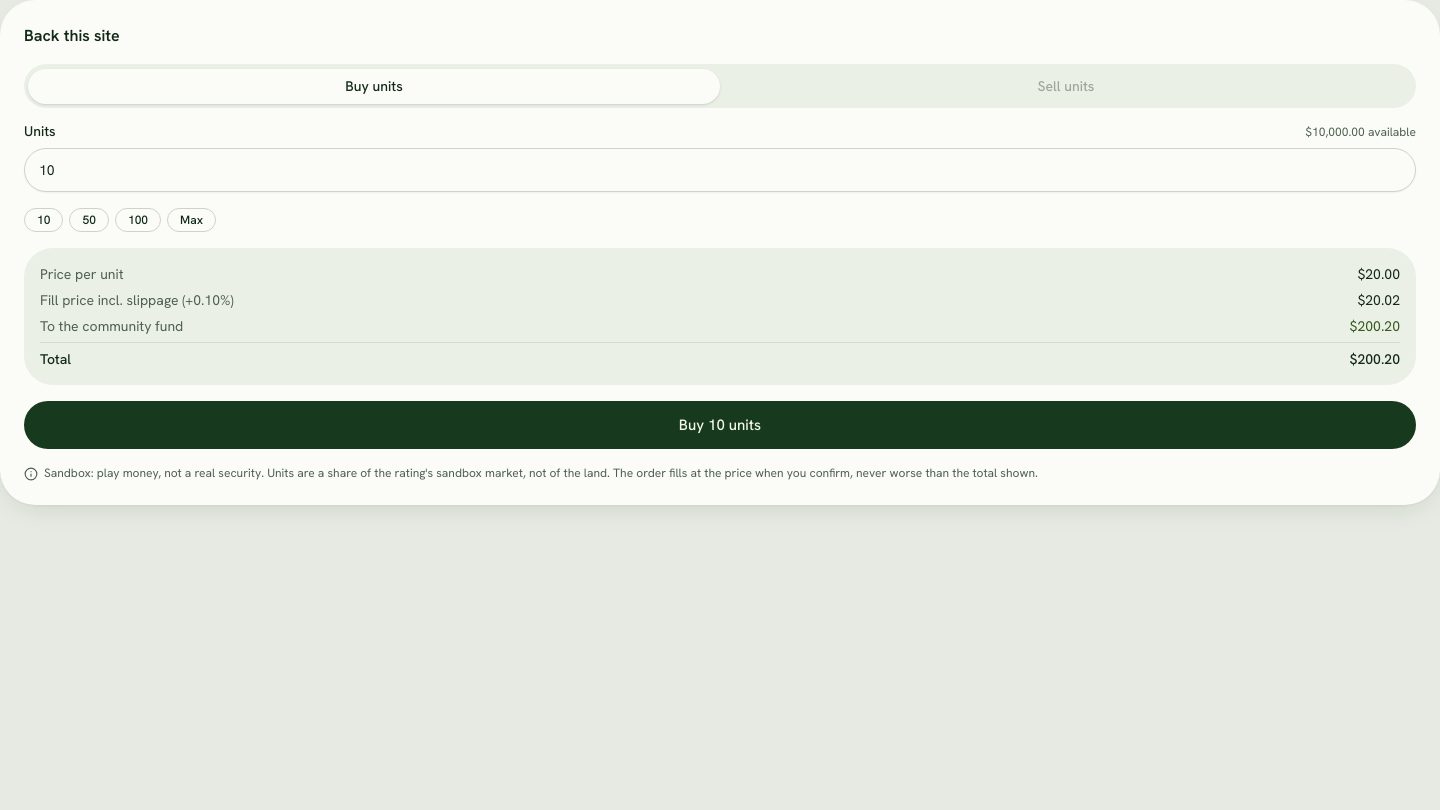
Test: TradePanel › places the order once, announces it and refreshes the balance
Expected: the element named "Quote" shows "$200.20", [1350,317,1400,335]
Click the button "Buy 10 units": (720, 425) [24,401,1416,449]
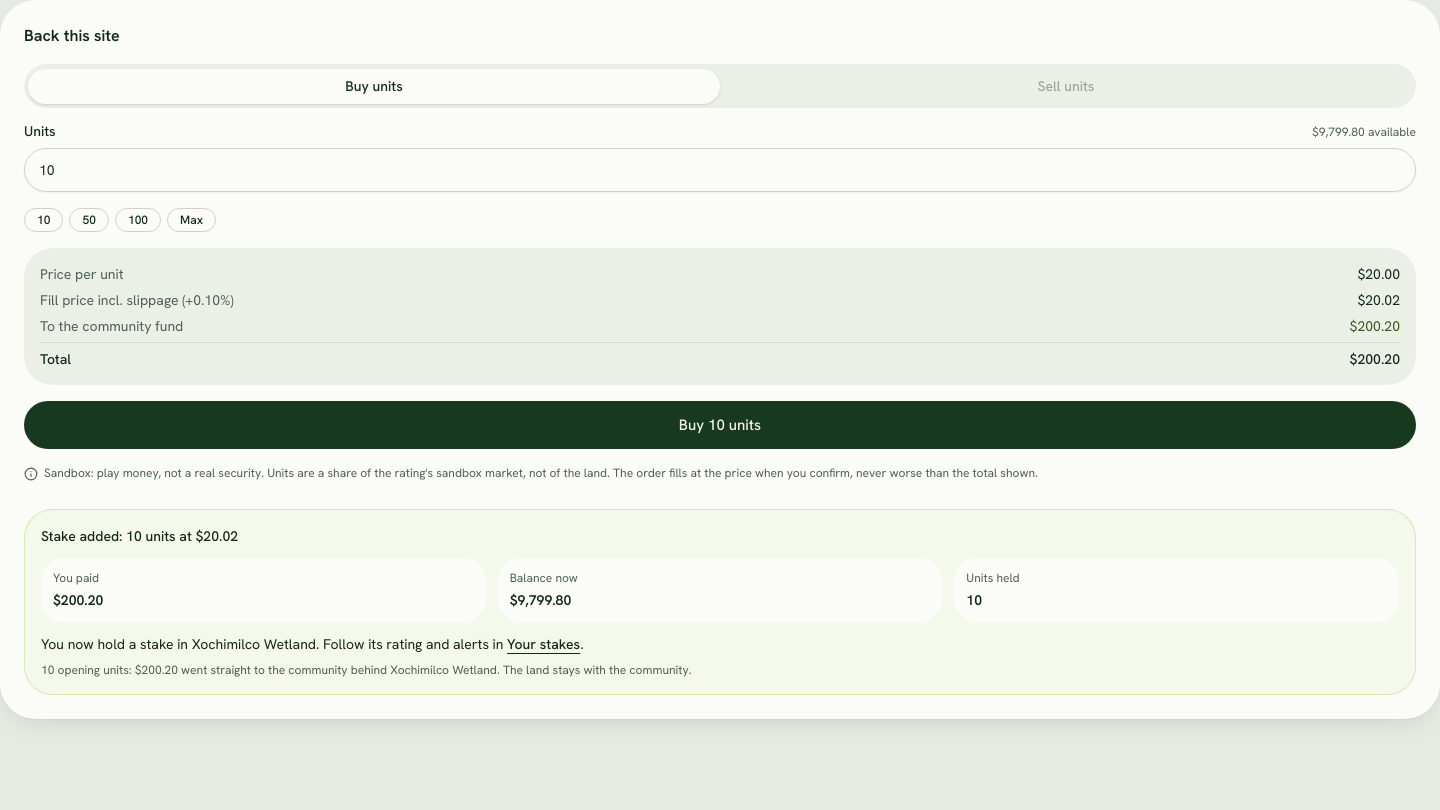
Now the text "$9,799.80 available" is shown, box [1306,124,1422,140]
Now the text "went straight to the community" shows "10 opening units: $200.20 went straight to the community", box [41,662,692,678]
